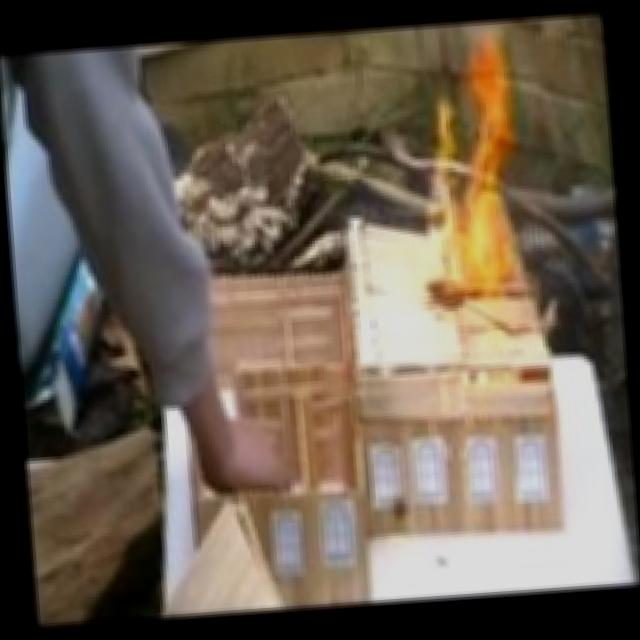fire: (408, 68, 540, 290)
